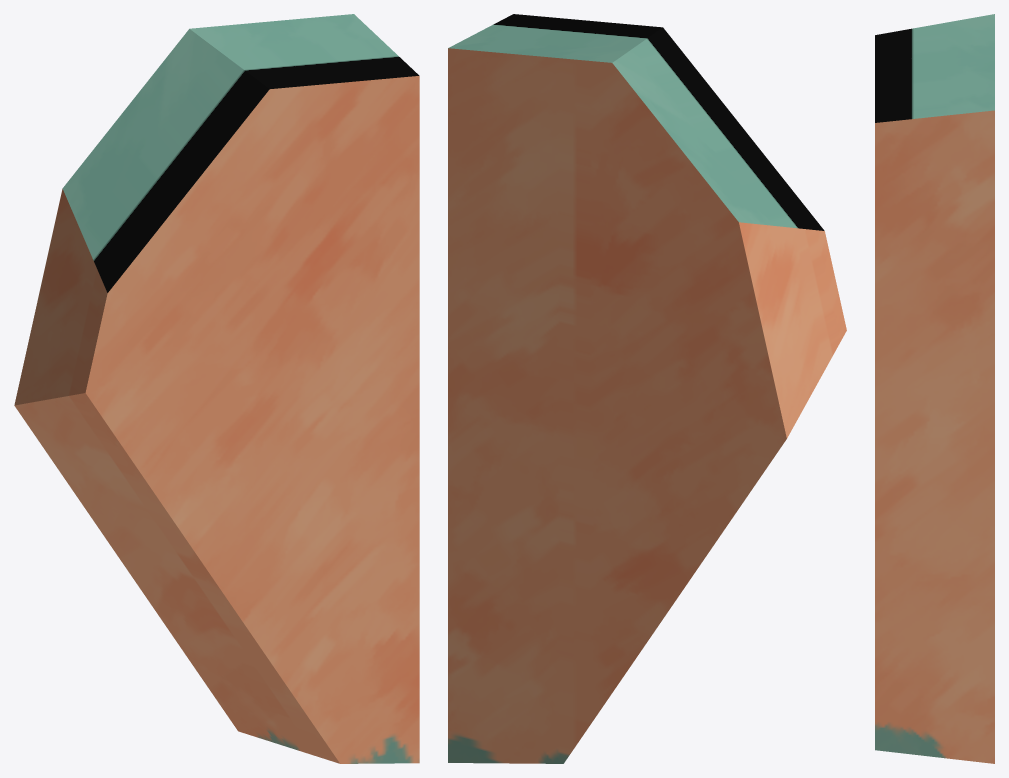
Rendered from wall_plain_s10.fbx.
3 renders of one model, left to right at view 1: azimuth 30°, elevation 25°; view 2: azimuth 150°, elevation 25°; view 3: azimuth 270°, elevation 25°, orthographic. The views are drawn at different scales.
Visible parts, largest first — view 1: wall_plain_s10; view 2: wall_plain_s10; view 3: wall_plain_s10.
Boxes of the visible parts, <box> form: wall_plain_s10: <box>14,14,419,763</box>; wall_plain_s10: <box>448,14,846,763</box>; wall_plain_s10: <box>875,14,994,763</box>.
Bounding box in the file's own units: 2.99 × 6.23 × 1.
